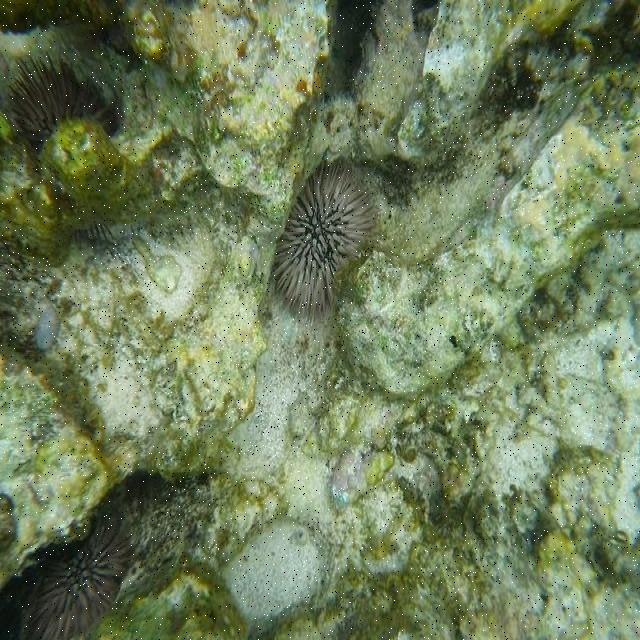reefs: (271, 158, 384, 325), (12, 514, 133, 638), (8, 50, 124, 143)
